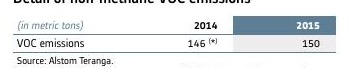table: (0, 0, 351, 68)
